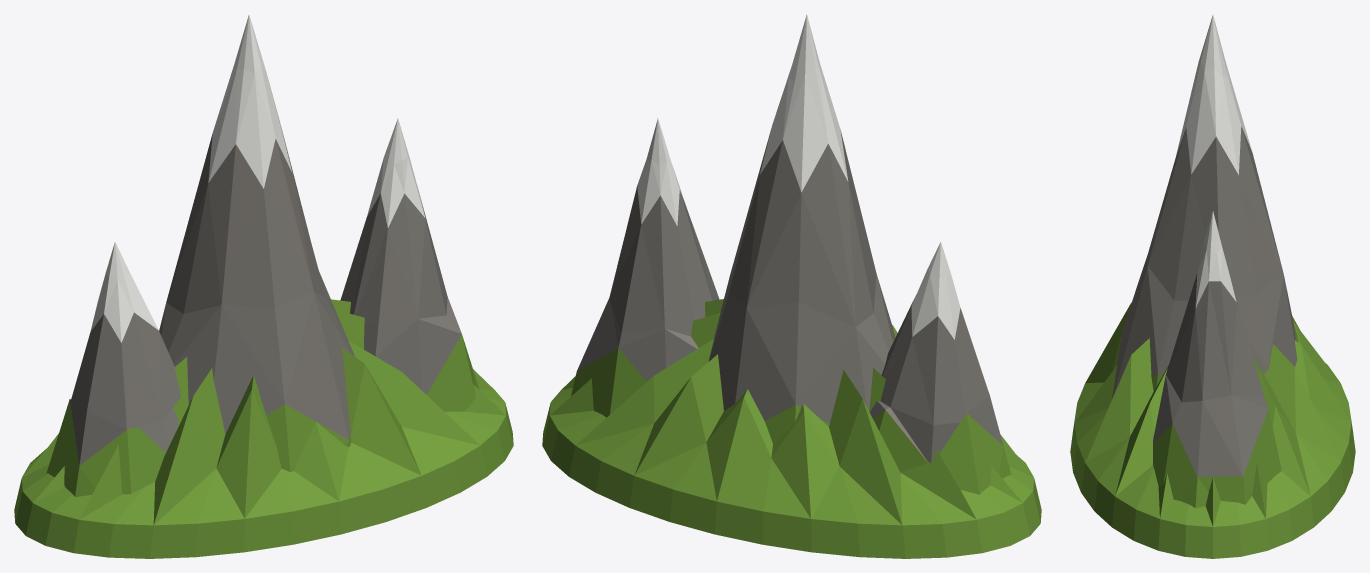
File: KANJI_06_YAMA.fbx
3 renders of one model, left to right at view 1: azimuth 30°, elevation 25°; view 2: azimuth 150°, elevation 25°; view 3: azimuth 270°, elevation 25°, orthographic. The views are drawn at different scales.
Visible parts, largest first — view 1: SM_KANJI_06_Yama; view 2: SM_KANJI_06_Yama; view 3: SM_KANJI_06_Yama.
Part boxes in pixels (x1,y1,x2,y2): SM_KANJI_06_Yama: [14, 14, 513, 558]; SM_KANJI_06_Yama: [542, 14, 1041, 558]; SM_KANJI_06_Yama: [1070, 15, 1355, 558].
Bounding box in the file's own units: 0.32 × 0.3 × 0.18.
